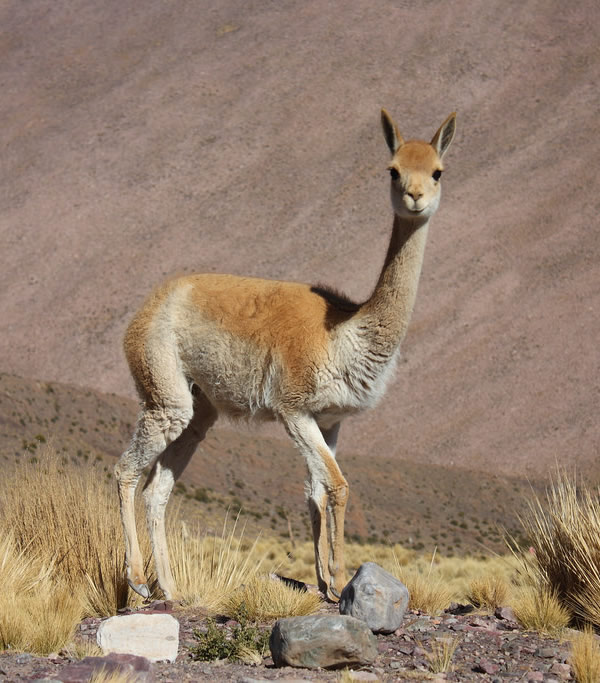eye: (429, 167, 451, 188), (388, 160, 404, 185)
mouth: (395, 193, 428, 223)
